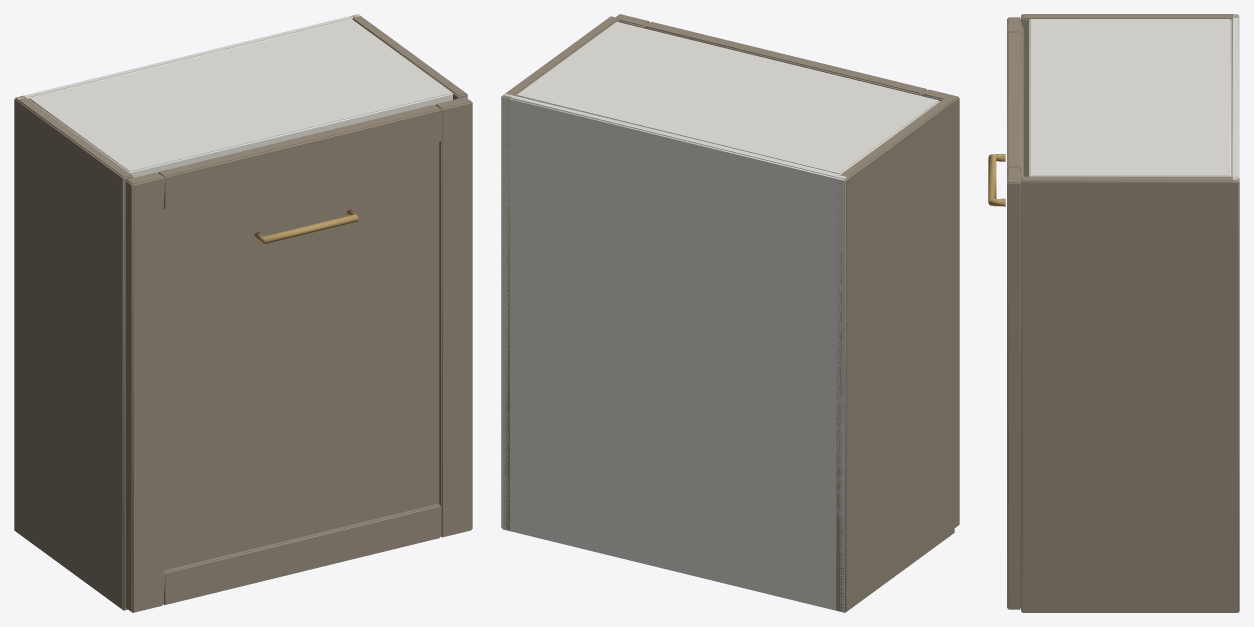
File: traditional.kitchen_wall.gltf
3 renders of one model, left to right at view 1: azimuth 30°, elevation 25°; view 2: azimuth 150°, elevation 25°; view 3: azimuth 270°, elevation 25°, orthographic.
Parts seen in each view (by area): view 1: traditional.kitchen_wall.back; view 2: traditional.kitchen_wall.back; view 3: traditional.kitchen_wall.back.
Part boxes in pixels (bbox=[...]): traditional.kitchen_wall.back: bbox=[14, 14, 472, 612]; traditional.kitchen_wall.back: bbox=[501, 14, 959, 612]; traditional.kitchen_wall.back: bbox=[988, 14, 1239, 612].
Bounding box in the file's own units: 0.599 × 0.72 × 0.379.
